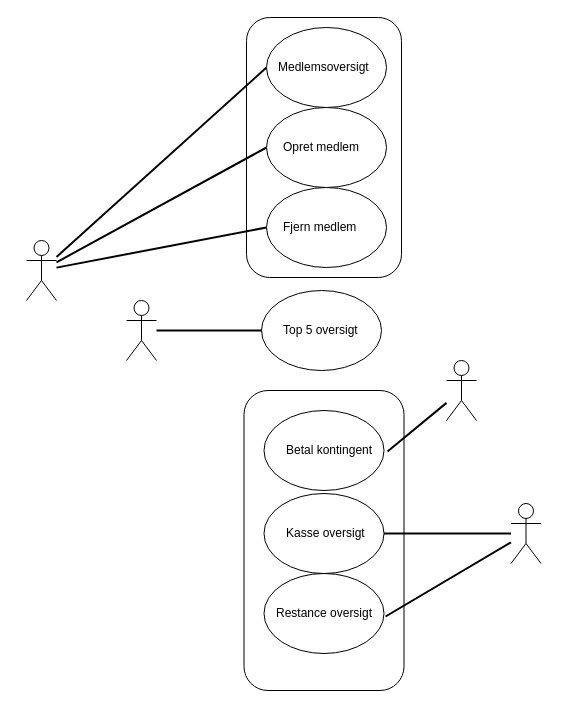
This 567x708 diagram has some shape labels left out. The shapes that lost their labels are listed below. From the top down, each one's centre as x and y in pixels, then its label:
At pixel 41 270: "Formand".
At pixel 141 330: "Træner".
At pixel 461 390: "Medlem".
At pixel 525 533: "Kasserer".
